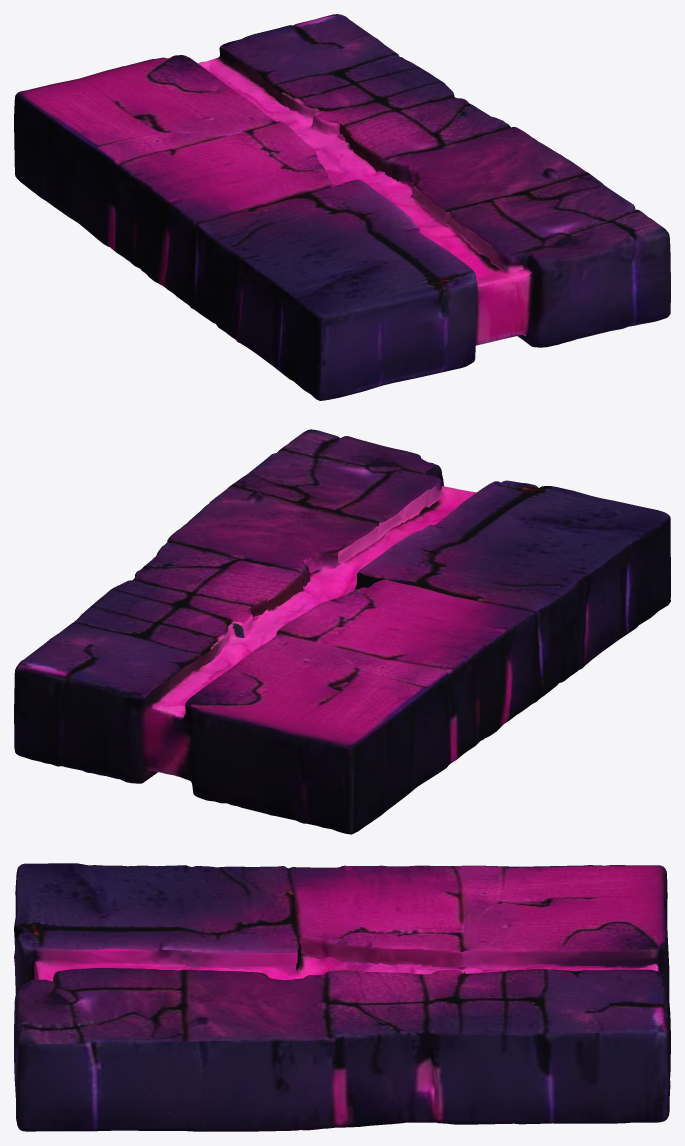
The model's file is approach-stone-5-generated-2026-05-17T18-22-11-356Z.low.glb.
The picture shows the model from 3 angles, top to bottom: view 1: azimuth 30°, elevation 25°; view 2: azimuth 150°, elevation 25°; view 3: azimuth 270°, elevation 25°; orthographic projection. The views are drawn at different scales.
Visible parts, largest first — view 1: temp_mesh.ply; view 2: temp_mesh.ply; view 3: temp_mesh.ply.
Boxes of the visible parts, <box> form: temp_mesh.ply: <box>14,14,670,400</box>; temp_mesh.ply: <box>14,429,670,834</box>; temp_mesh.ply: <box>14,863,670,1131</box>.
Size of the model in its own units: 1.29 by 0.335 by 1.97.
1 material, 1 textured.
